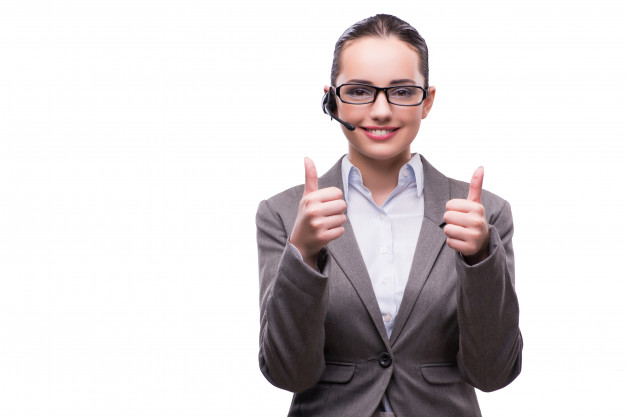thumbsup: (444, 165, 486, 254), (303, 156, 347, 240)
